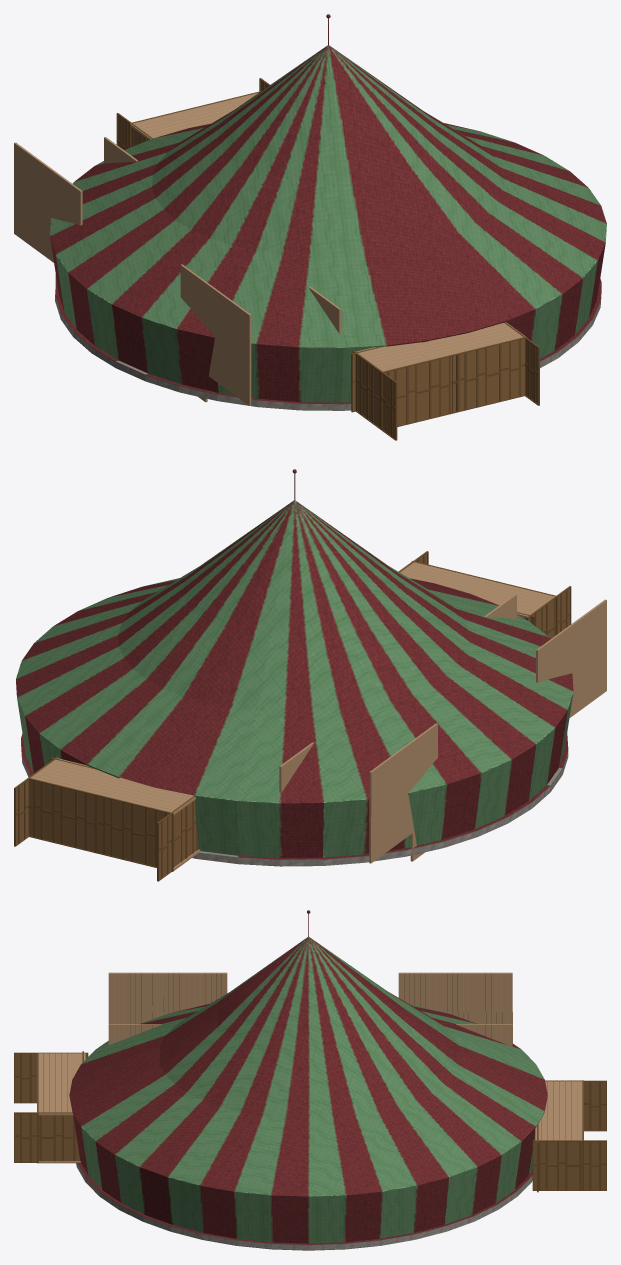
3 views of the same model, one above another, from view 1: azimuth 30°, elevation 25°; view 2: azimuth 150°, elevation 25°; view 3: azimuth 270°, elevation 25° (orthographic). The views are drawn at different scales.
Parts seen in each view (by area): view 1: esenario, paredstatica.001, paredstatica; view 2: esenario, paredstatica.001, paredstatica; view 3: esenario, paredstatica.001, paredstatica.
Boxes of the visible parts, bbox=[...] form: esenario: bbox=[50, 14, 606, 440]; paredstatica.001: bbox=[14, 142, 251, 405]; paredstatica: bbox=[104, 137, 341, 333]; esenario: bbox=[14, 469, 573, 881]; paredstatica.001: bbox=[369, 599, 606, 863]; paredstatica: bbox=[279, 594, 516, 792]; esenario: bbox=[14, 910, 606, 1250]; paredstatica.001: bbox=[108, 972, 512, 1042]; paredstatica: bbox=[108, 1024, 512, 1046].
Size of the model in its own units: 29.97 by 17.99 by 37.14.
7 materials, 1 textured.
